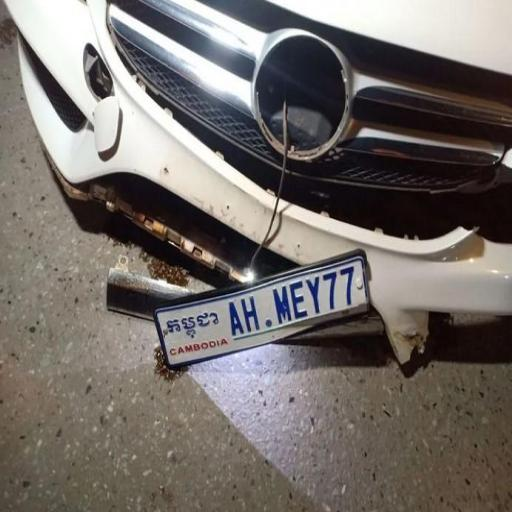Plate Number: (154, 248, 372, 370)
